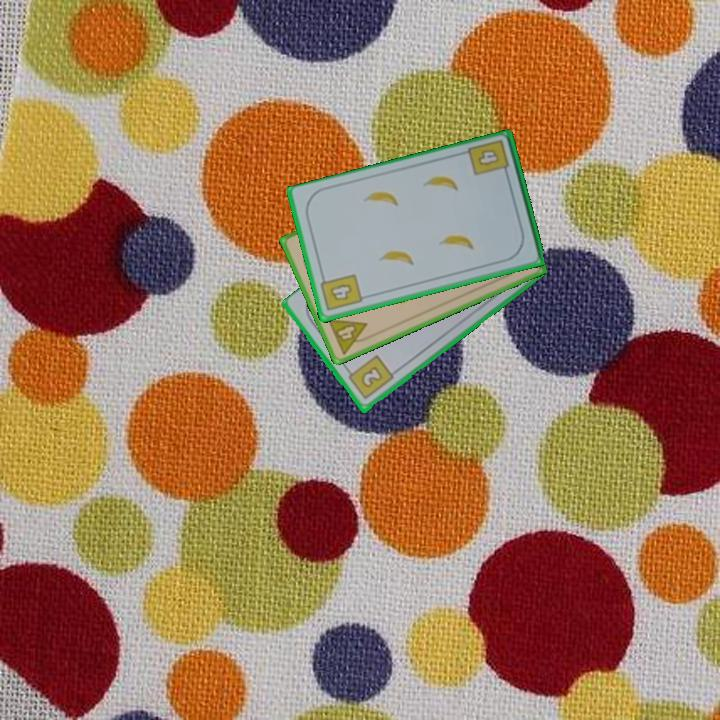2b: (343, 352, 396, 403)
4b: (465, 136, 512, 181), (317, 271, 365, 314)
4p: (324, 315, 375, 357)
